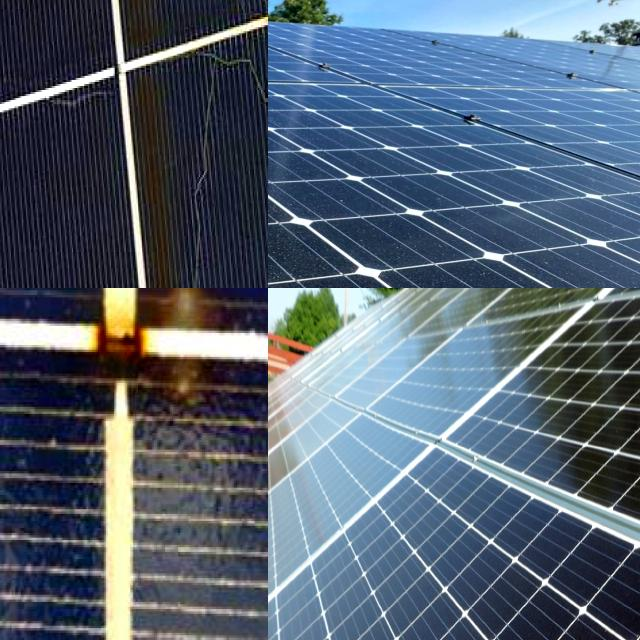crack: (580, 336, 640, 503), (327, 599, 487, 640), (428, 448, 486, 536)
dust: (268, 189, 325, 288)
shadow: (76, 0, 192, 288), (48, 288, 228, 449)
